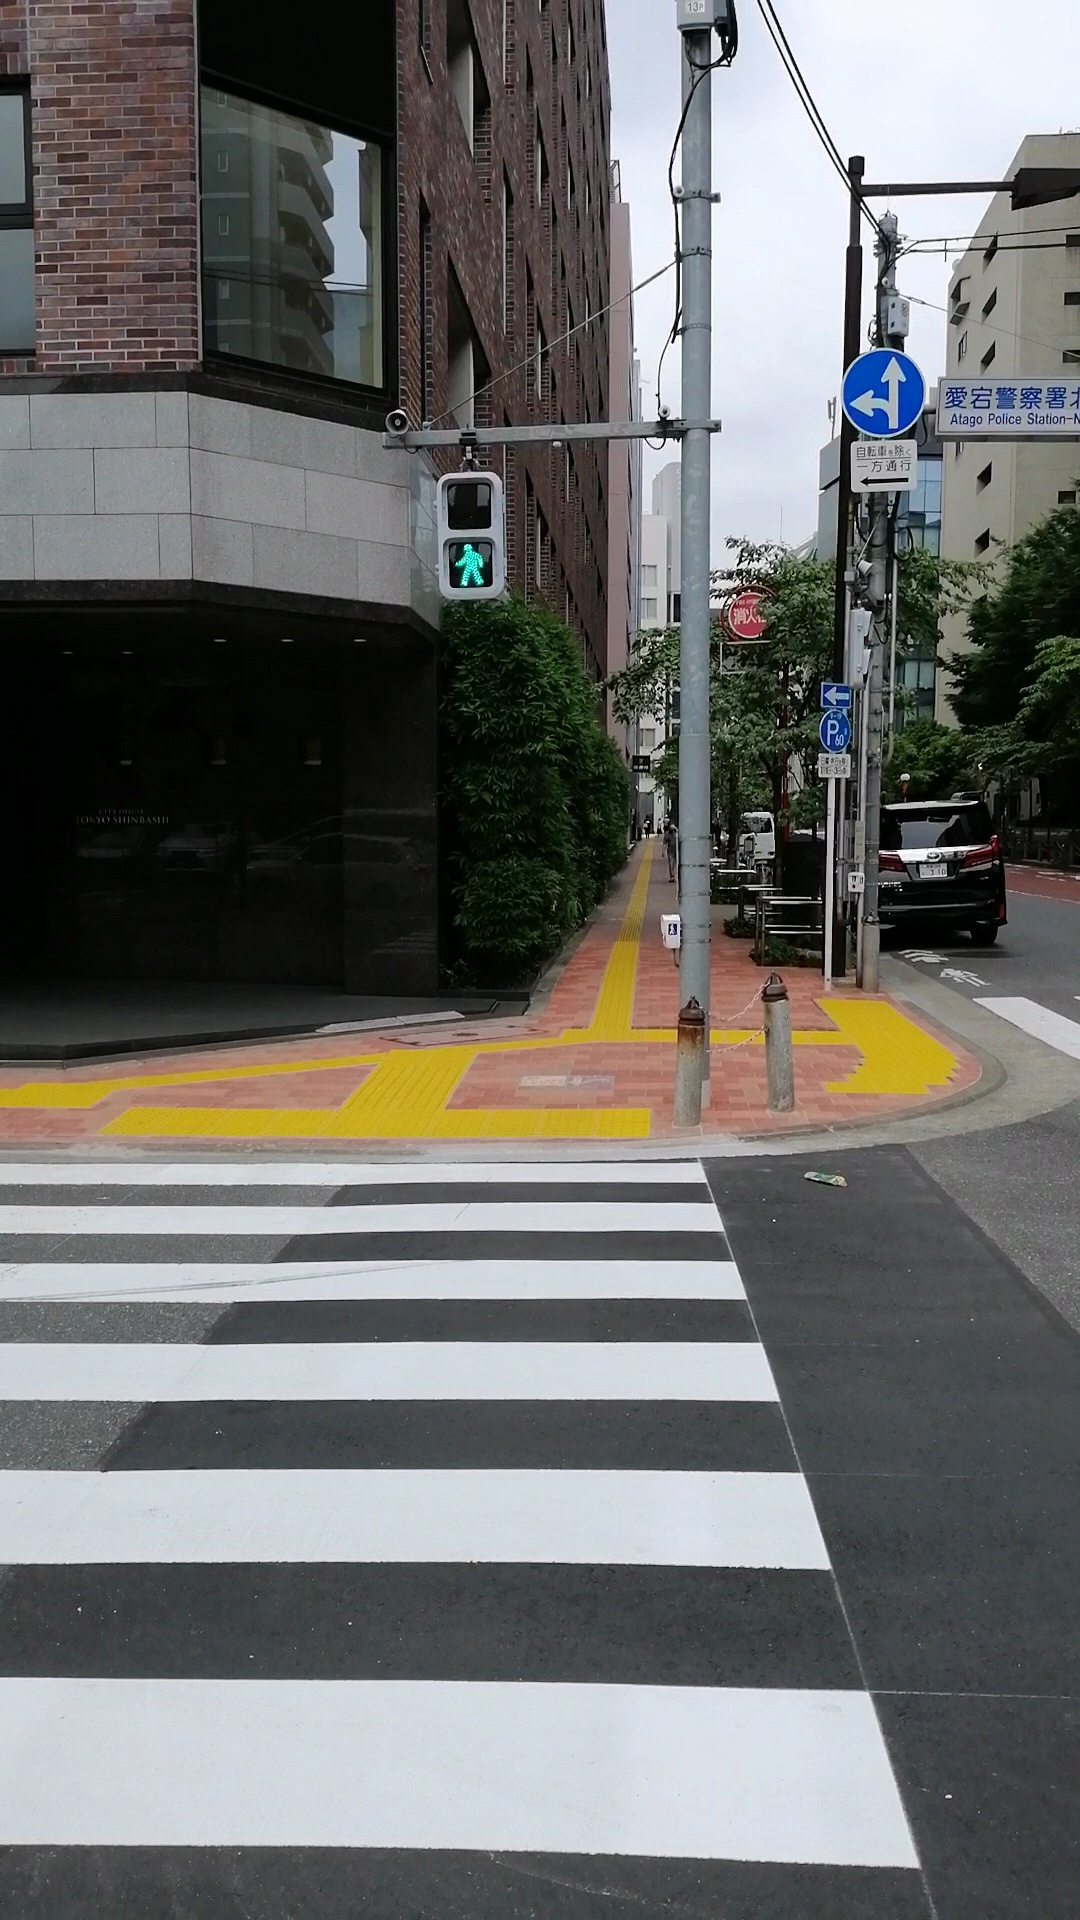green: (433, 472, 506, 600)
